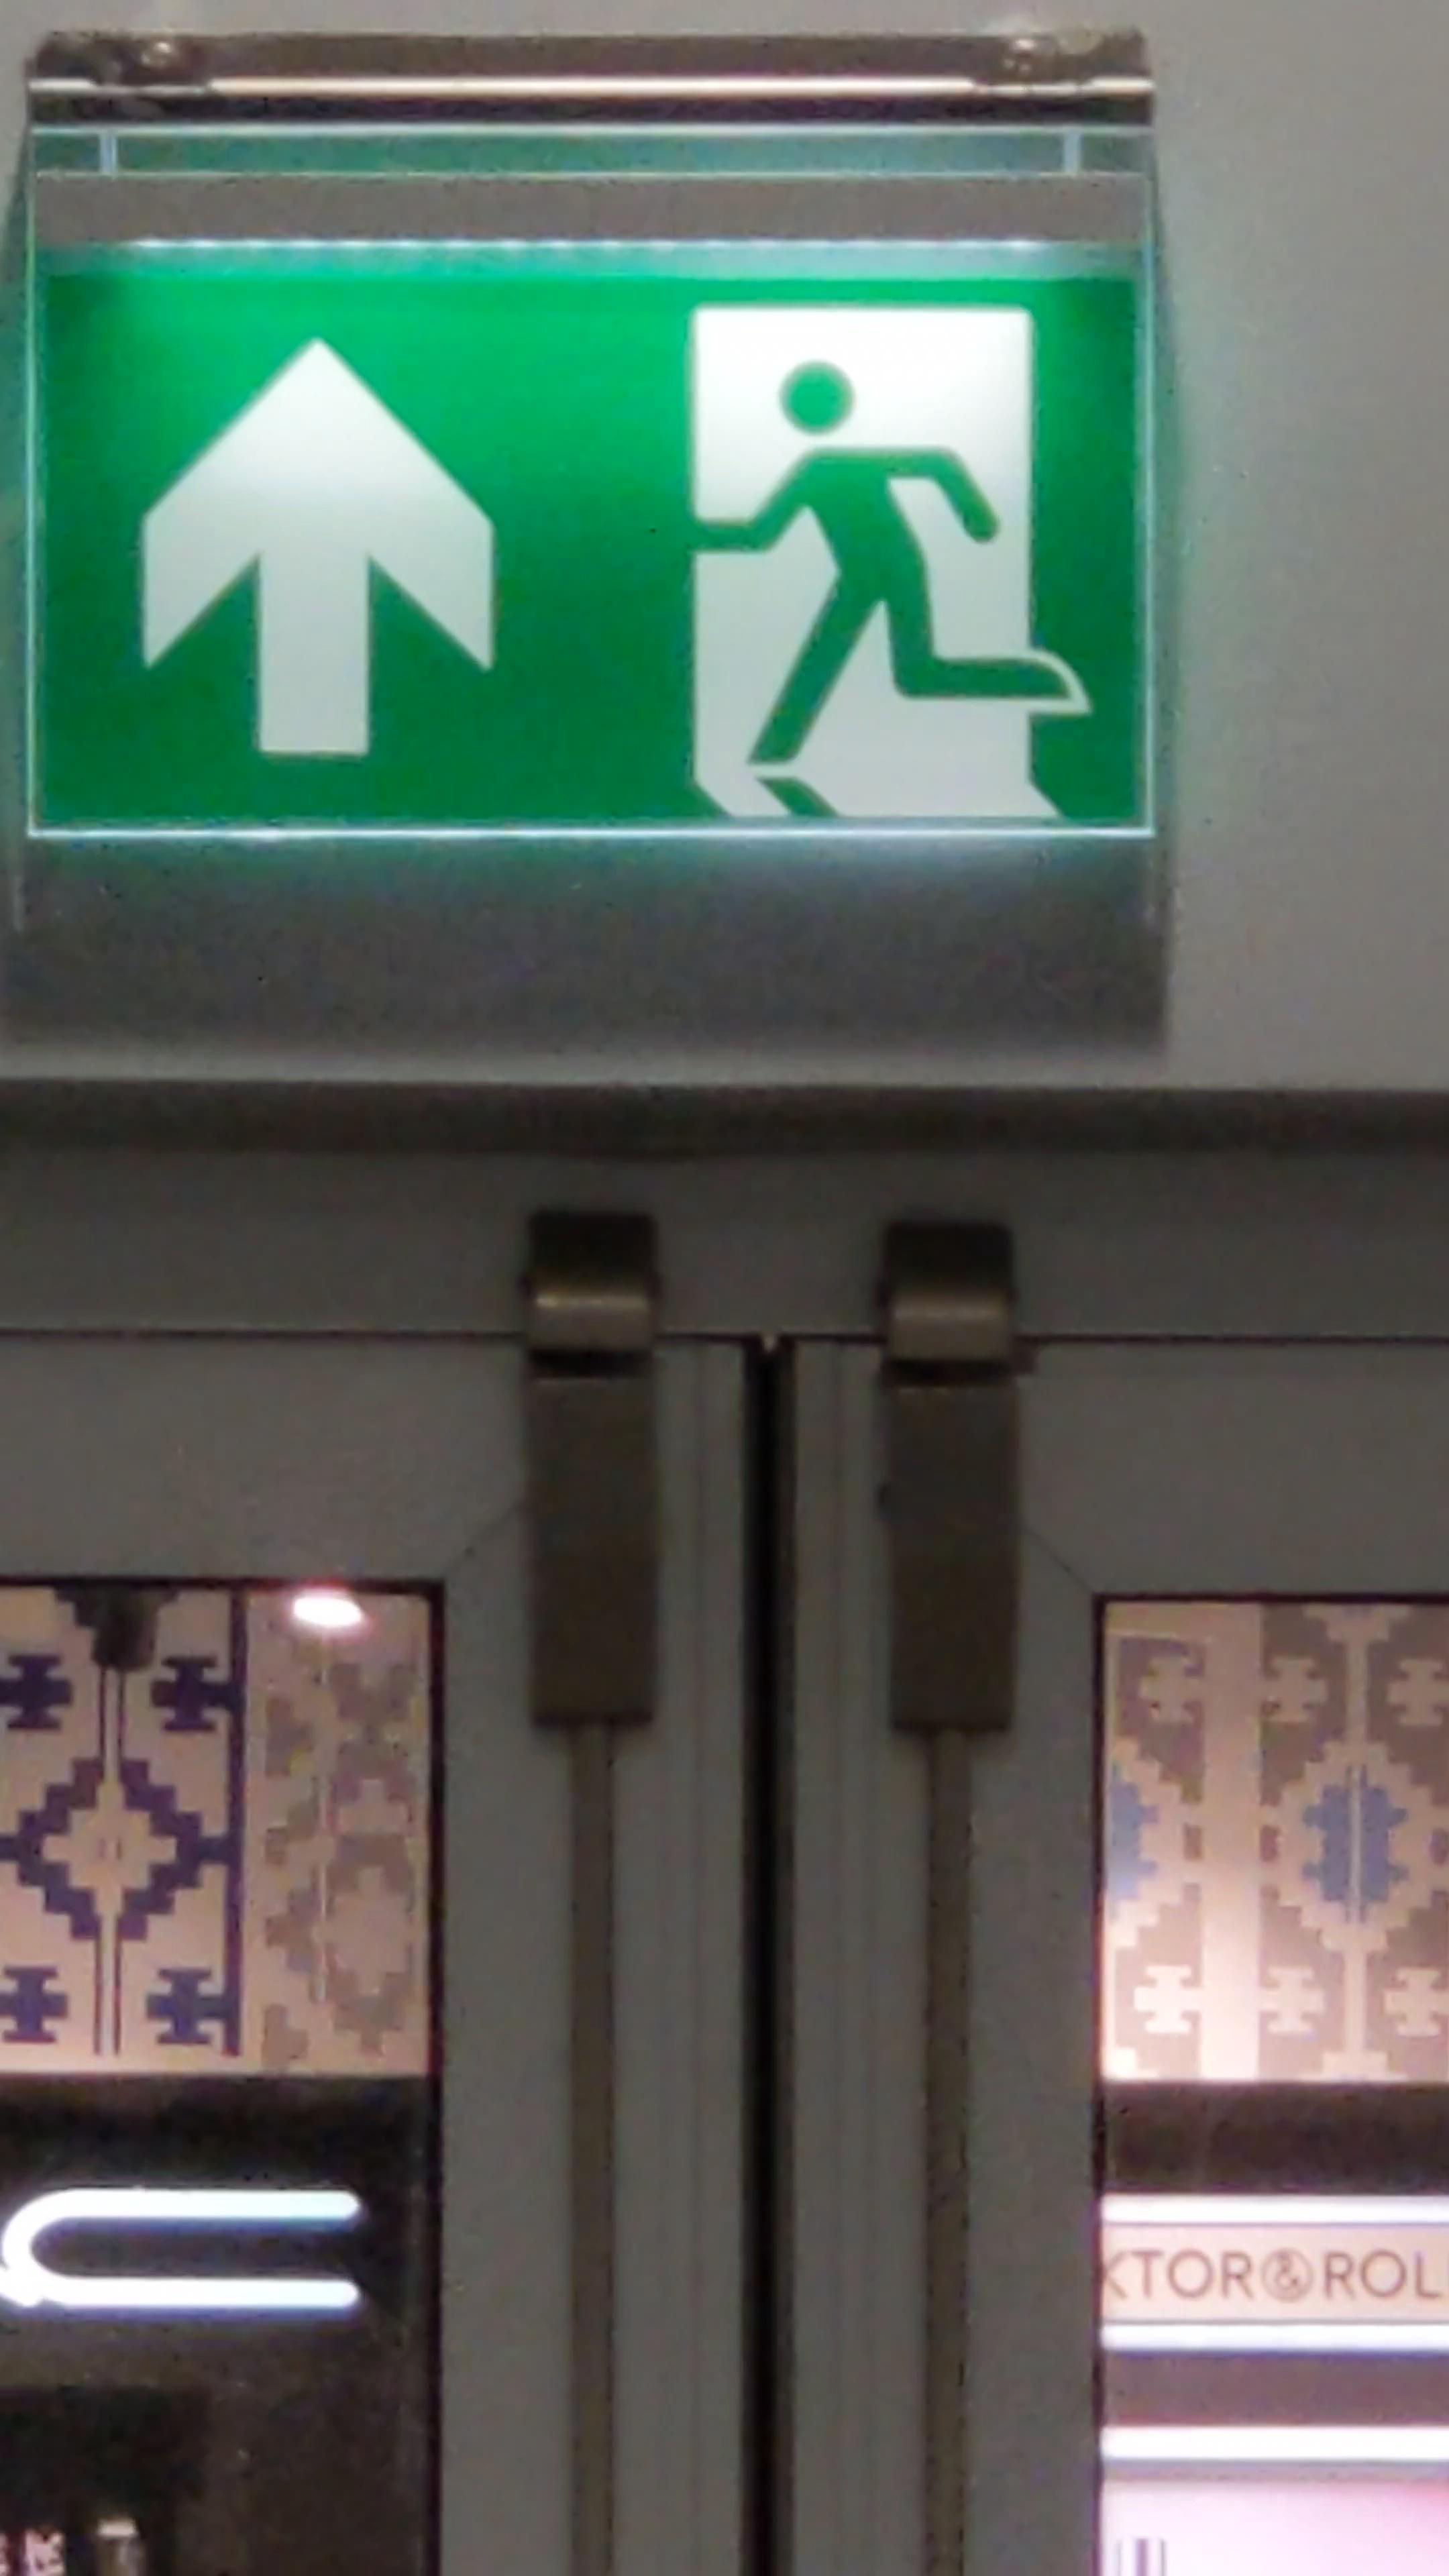emergency up arrow: (122, 333, 511, 773)
